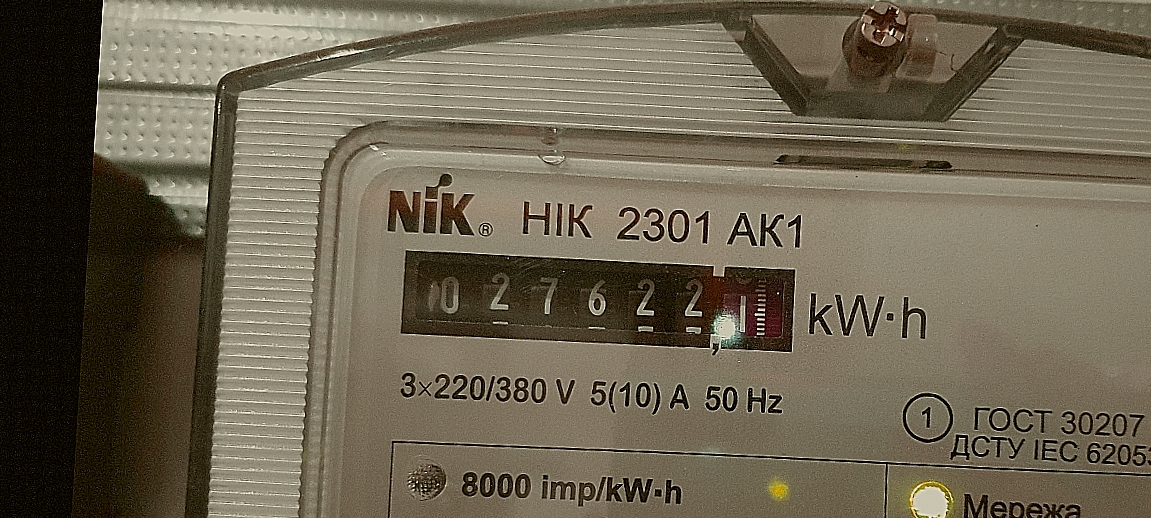0: (436, 272, 463, 316)
1: (733, 291, 751, 335)
2: (631, 275, 659, 318), (487, 269, 512, 313), (681, 276, 706, 319)
6: (584, 275, 609, 317)
7: (535, 274, 560, 318)
screen: (387, 235, 810, 364)
